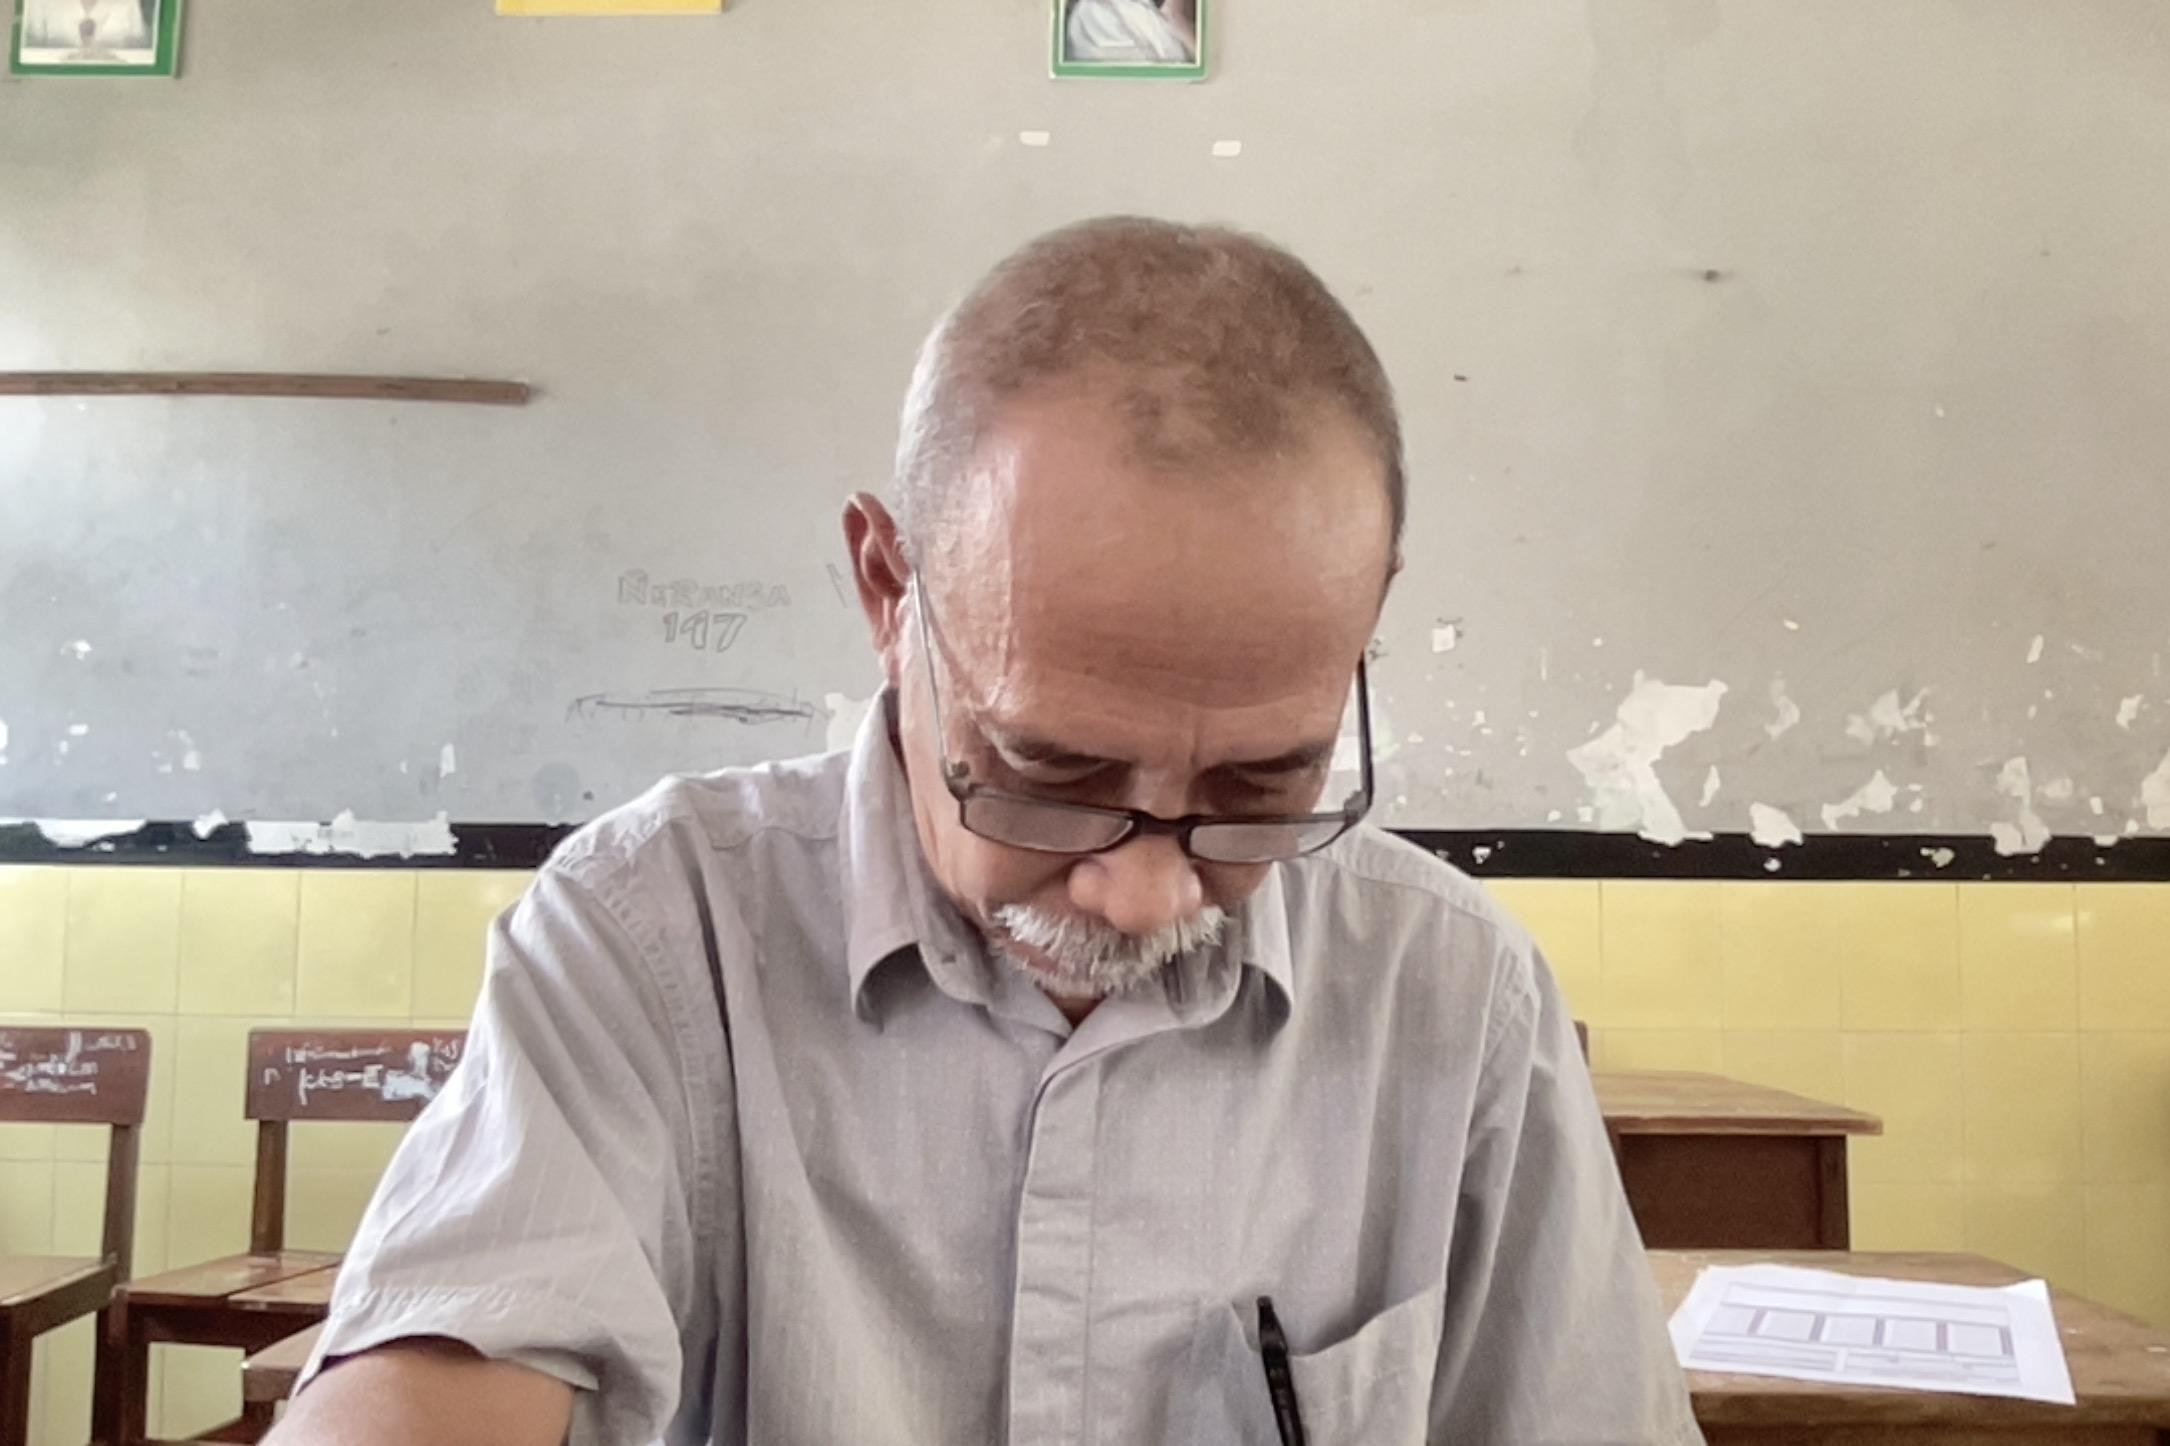good: (237, 187, 1783, 1446)
